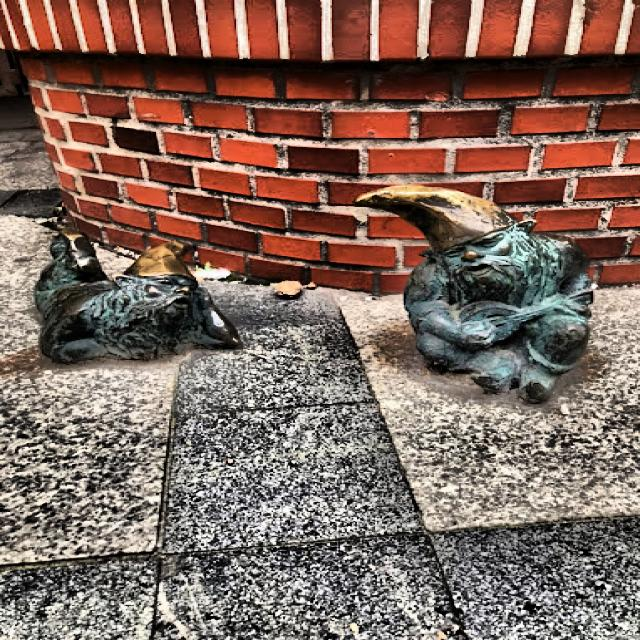Grajek_i_Meloman: (34, 186, 595, 405)
